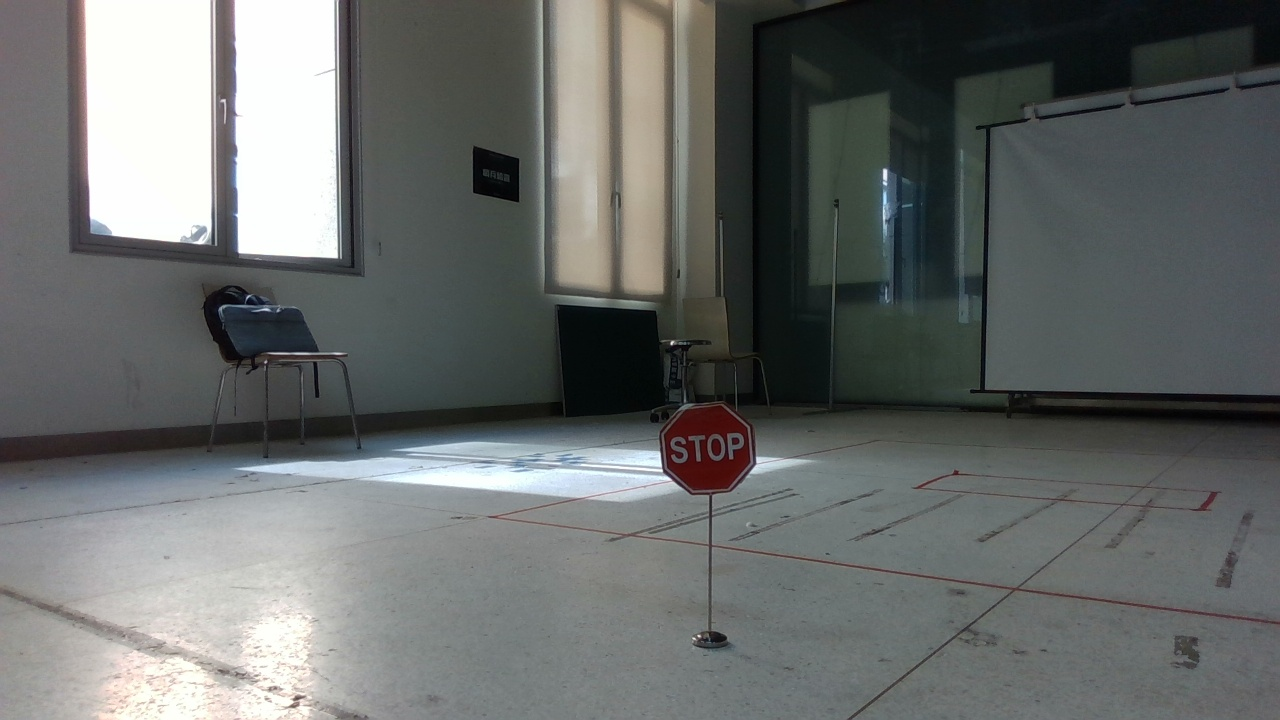stop_sign: (641, 392, 775, 504)
